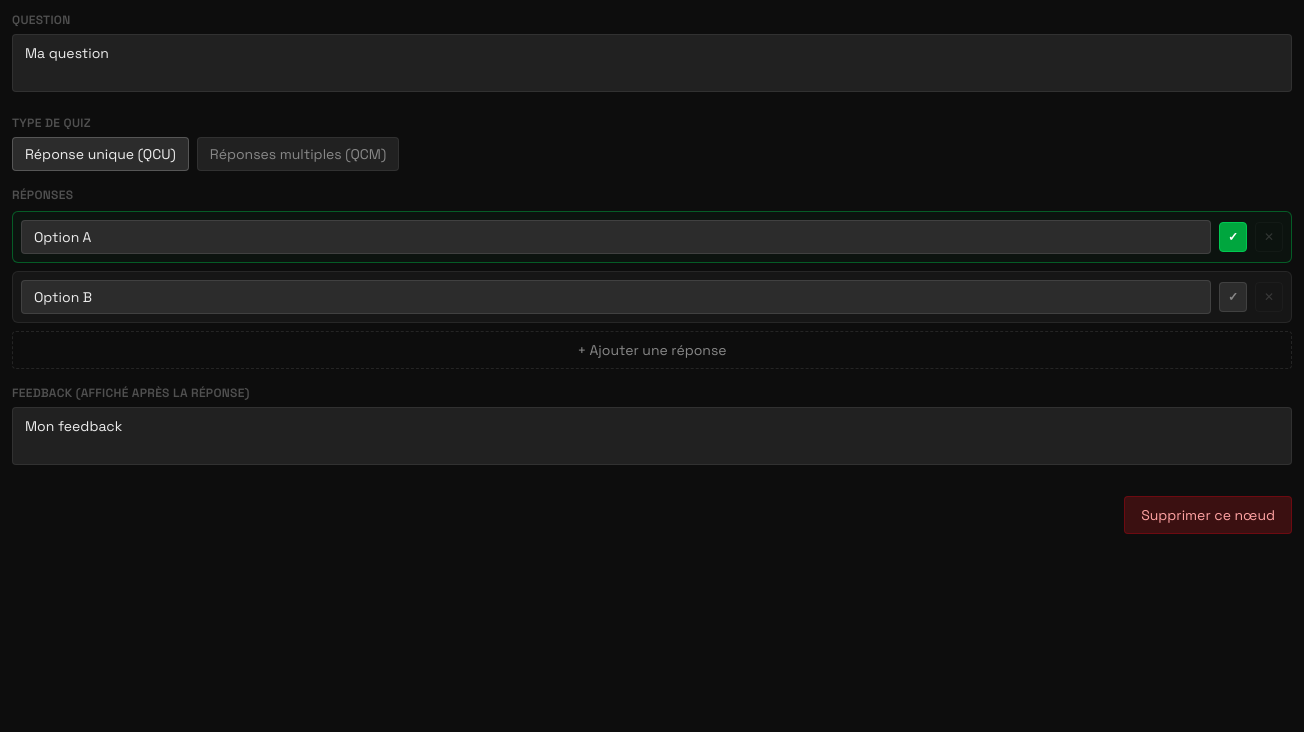
Test: NodeForm — quiz › peut ajouter une réponse
Click the button "+ Ajouter une réponse" at (652, 350), box [12,331,1292,369]
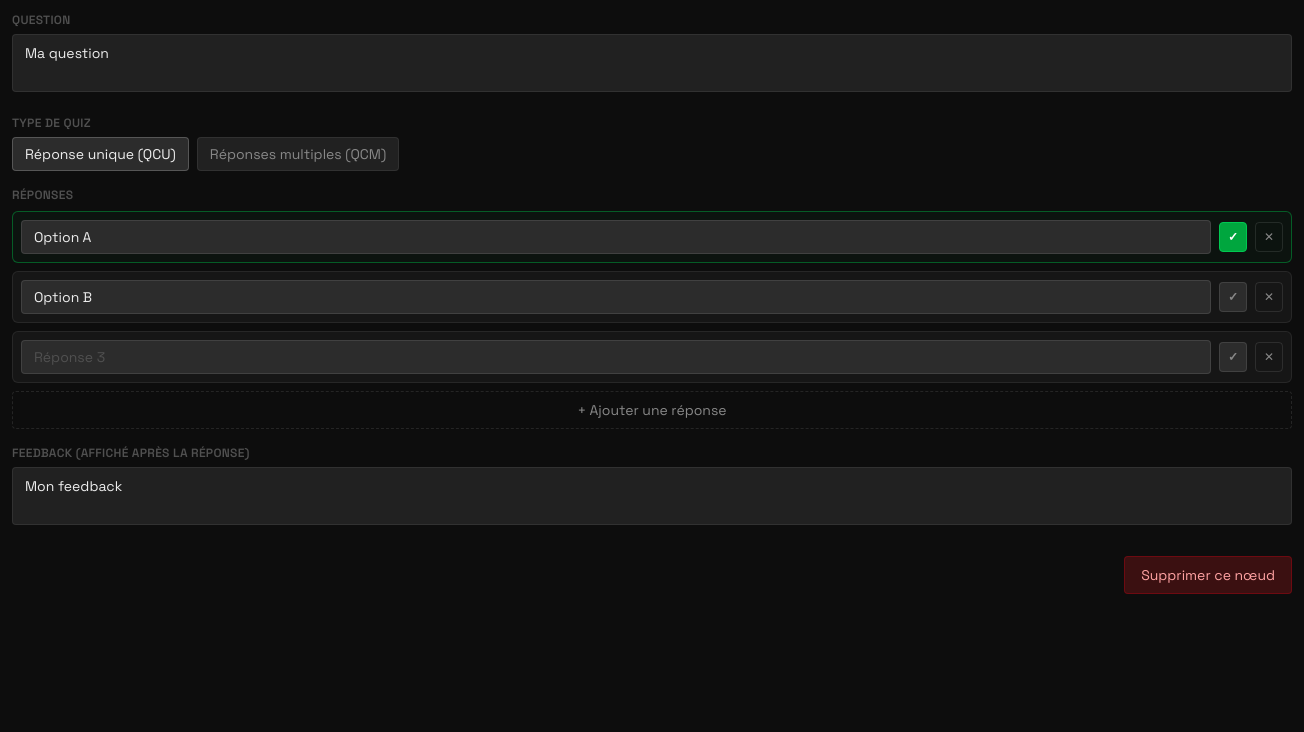
Expected: the number of fields with placeholder "Réponse 1" is 3, [21,220,1211,254]; [21,280,1211,314]; [21,340,1211,374]
